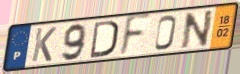0: (154, 14, 179, 52)
9: (61, 22, 88, 62)
D: (89, 19, 119, 60)
F: (117, 12, 153, 59)
K: (30, 26, 58, 63)
N: (180, 8, 215, 50)
